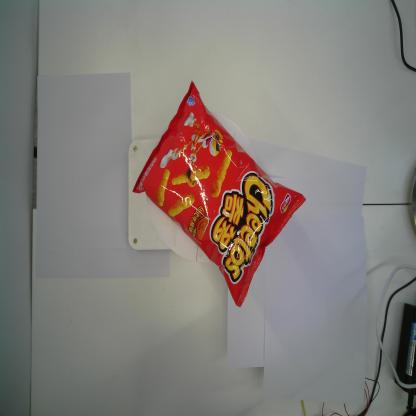Puffed Food: (131, 81, 308, 309)
